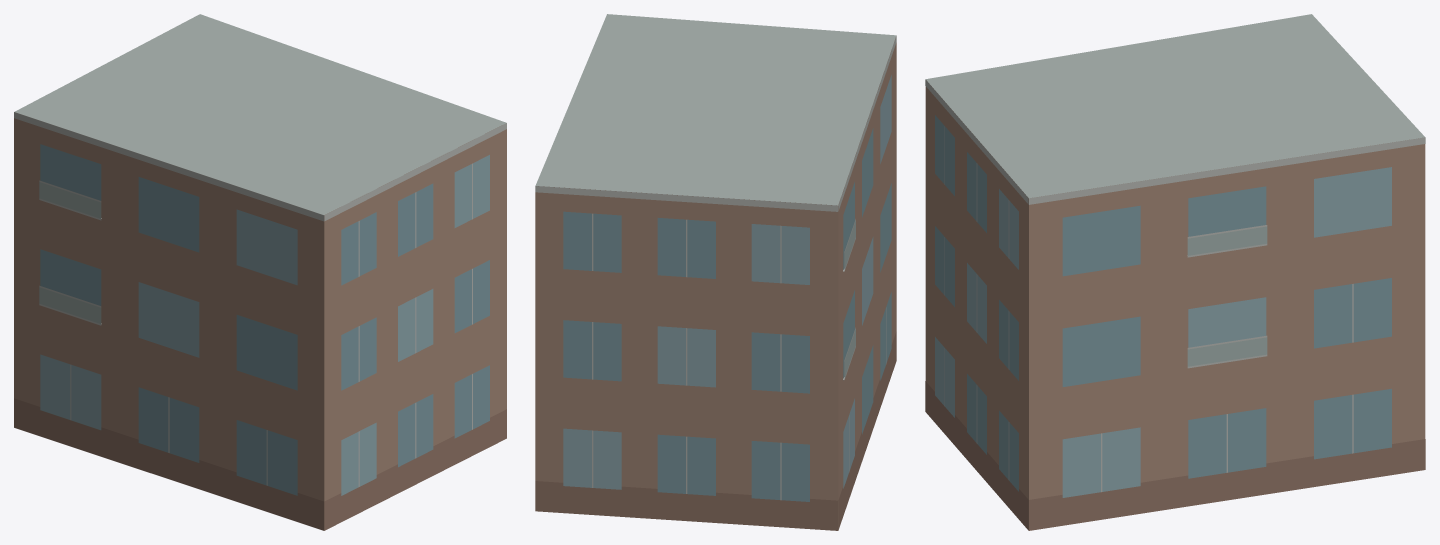
File: survey-upis-32960067.glb
The picture shows the model from 3 angles, left to right: view 1: azimuth 30°, elevation 25°; view 2: azimuth 150°, elevation 25°; view 3: azimuth 270°, elevation 25°; orthographic projection. The views are drawn at different scales.
Parts seen in each view (by area): view 1: survey-upis-32960067.tmp; view 2: survey-upis-32960067.tmp; view 3: survey-upis-32960067.tmp.
Part boxes in pixels (left/top/right/bottom): survey-upis-32960067.tmp: left=14, top=14, right=506, bottom=530; survey-upis-32960067.tmp: left=535, top=14, right=896, bottom=530; survey-upis-32960067.tmp: left=925, top=14, right=1425, bottom=530.
Size of the model in its own units: 14.63 by 12.3 by 16.77.
